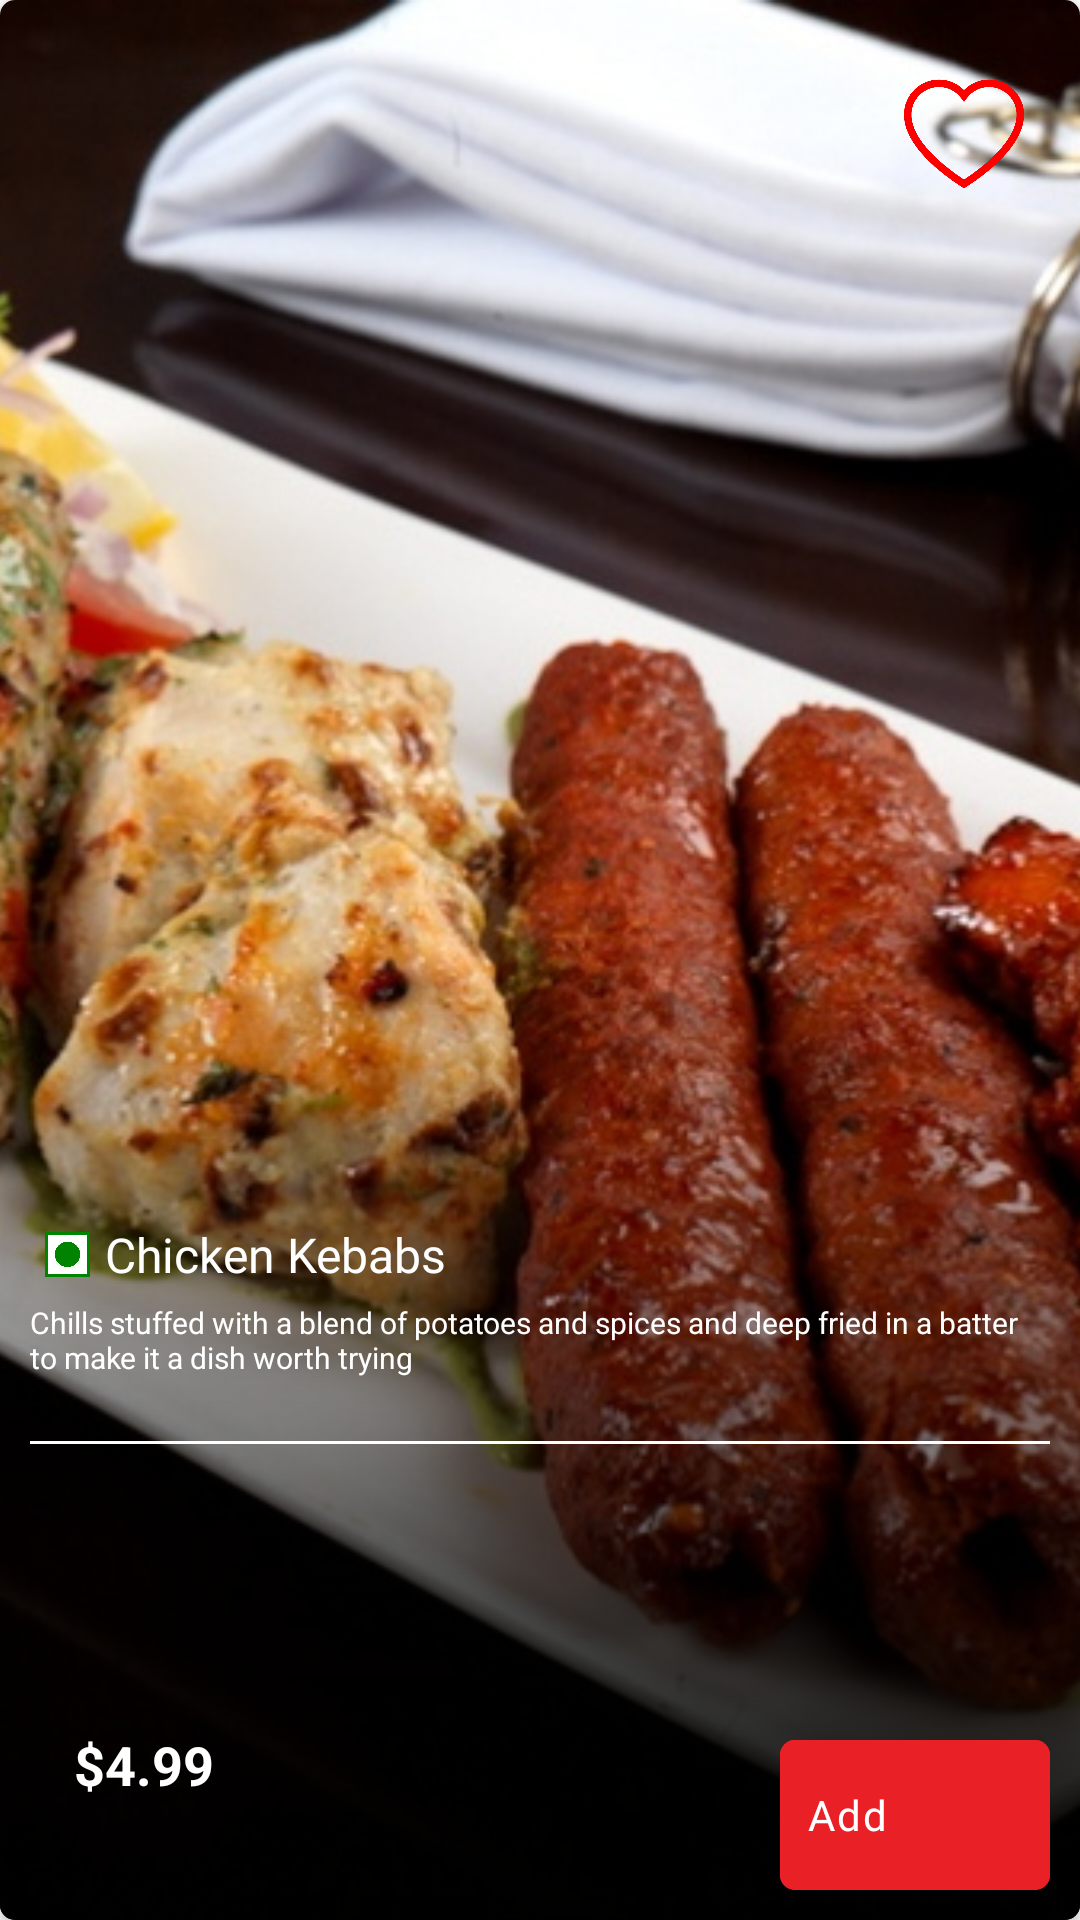

Point at icon controls on the screen. Image size 1080×1920, points as point (x, y).
redheart: point (964, 131)
veg: point (67, 1254)
